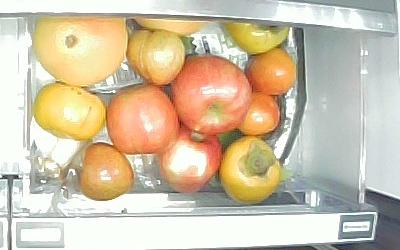apple: (169, 54, 252, 135), (107, 84, 179, 157), (157, 131, 225, 195)
grapefruit: (31, 15, 129, 88), (133, 15, 210, 38)
persimmon: (33, 82, 108, 141), (219, 135, 281, 204), (222, 20, 289, 53)
prune: (68, 141, 136, 202), (125, 28, 186, 87), (245, 46, 297, 96), (239, 91, 282, 137)
